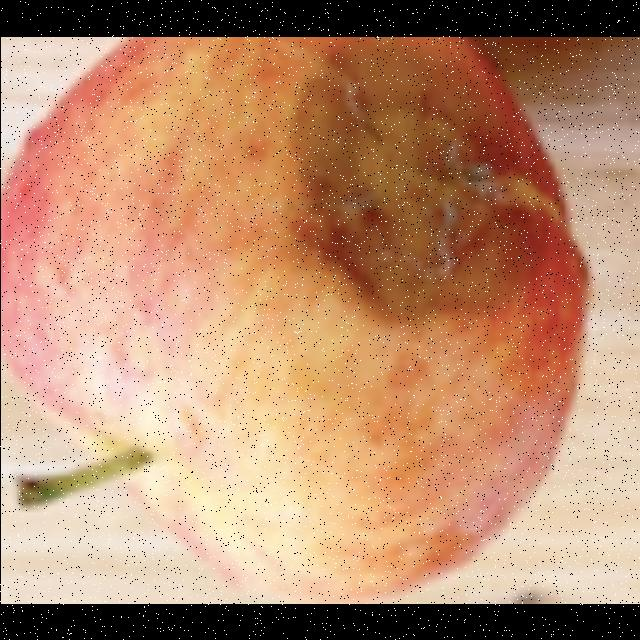Apel Tidak Segar: (0, 37, 591, 586)
